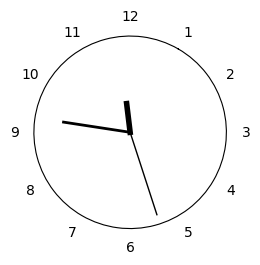12: (122, 9, 139, 22)
circle: (33, 35, 227, 229)
hours: (123, 100, 133, 135)
minutes: (62, 120, 128, 133)
seconds: (131, 136, 156, 215)
